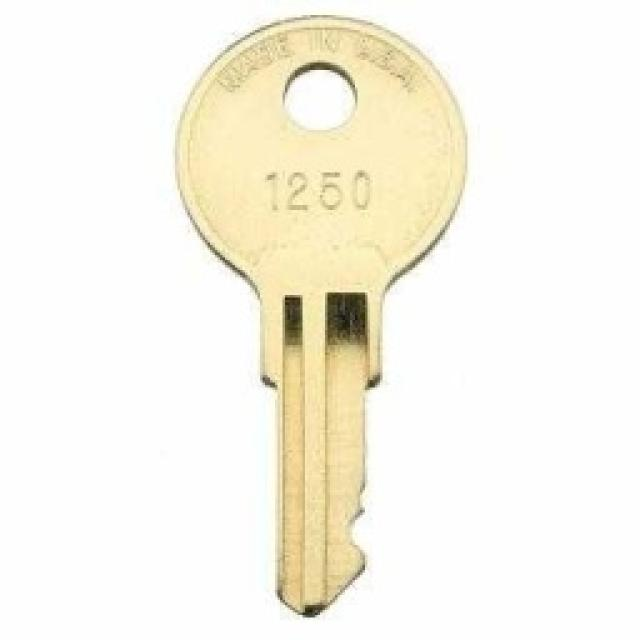anahtar: (160, 5, 481, 620)
